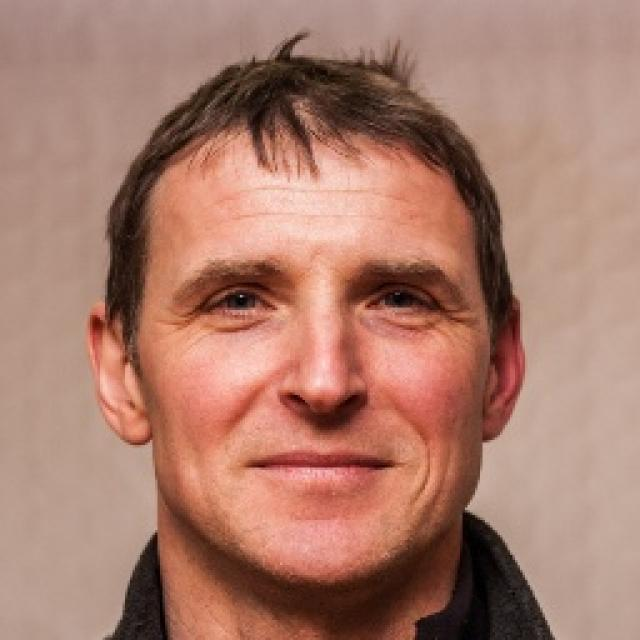earlobe: (84, 301, 155, 448), (479, 294, 526, 445)
